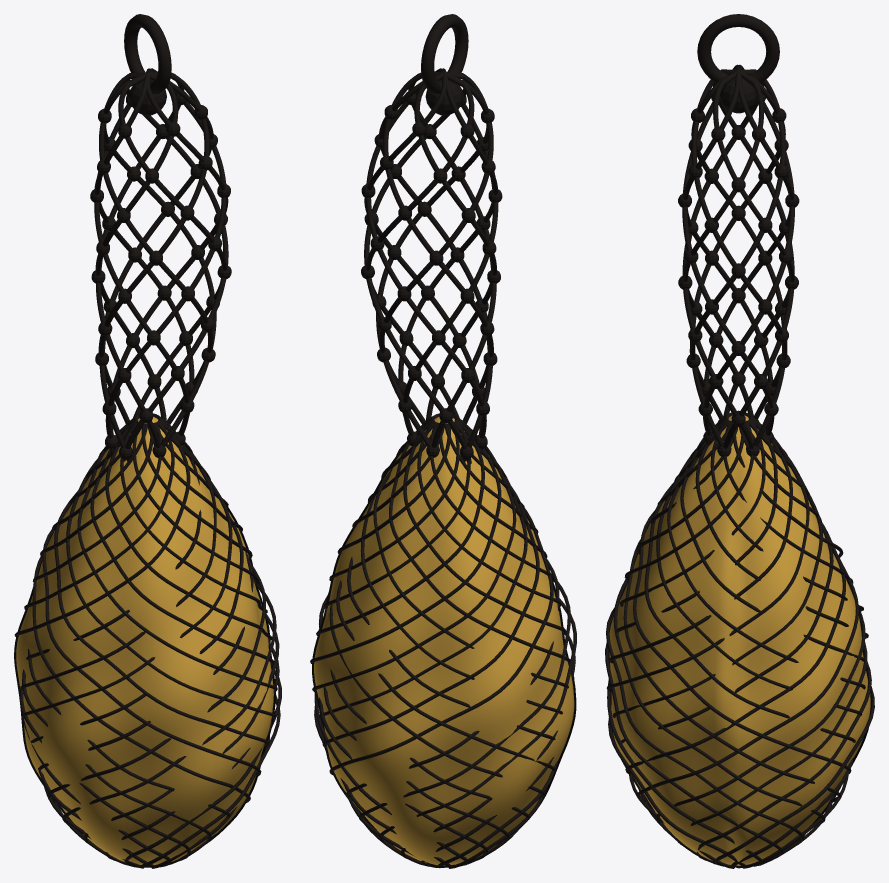
Rendered from heunetz-voll-2kg.glb.
3 views of the same model, side by side, from view 1: azimuth 30°, elevation 25°; view 2: azimuth 150°, elevation 25°; view 3: azimuth 270°, elevation 25° (orthographic).
Parts seen in each view (by area): view 1: heu_koerper, netz, netz_leer_oben, knoten_leer_oben, schlaufe, knoten; view 2: heu_koerper, netz, netz_leer_oben, knoten_leer_oben, schlaufe, knoten; view 3: heu_koerper, netz, netz_leer_oben, knoten_leer_oben, schlaufe, knoten.
Part boxes in pixels (left/top/right/bottom): heu_koerper: left=14, top=414, right=275, bottom=867; netz: left=14, top=413, right=281, bottom=868; netz_leer_oben: left=94, top=68, right=228, bottom=461; knoten_leer_oben: left=90, top=91, right=231, bottom=459; schlaufe: left=124, top=14, right=171, bottom=94; knoten: left=128, top=79, right=166, bottom=115; heu_koerper: left=312, top=414, right=576, bottom=867; netz: left=310, top=413, right=576, bottom=868; netz_leer_oben: left=364, top=68, right=498, bottom=463; knoten_leer_oben: left=361, top=92, right=502, bottom=459; schlaufe: left=421, top=14, right=468, bottom=94; knoten: left=425, top=79, right=463, bottom=115; heu_koerper: left=607, top=410, right=872, bottom=868; netz: left=605, top=412, right=874, bottom=868; netz_leer_oben: left=682, top=64, right=794, bottom=448; knoten_leer_oben: left=678, top=94, right=799, bottom=456; schlaufe: left=697, top=14, right=779, bottom=86; knoten: left=720, top=79, right=757, bottom=113.
Bounding box in the file's own units: 36.05 × 125 × 36.02.
